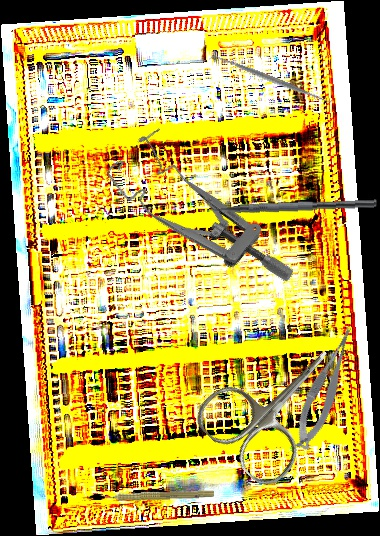Chopper: (198, 187, 378, 217)
Handpiece: (96, 485, 215, 504)
Iris Scissors: (188, 314, 367, 494)
Micro Scissor: (283, 322, 370, 454)
Spatula Surgical: (208, 48, 334, 110)
Speculum: (101, 113, 298, 328)
